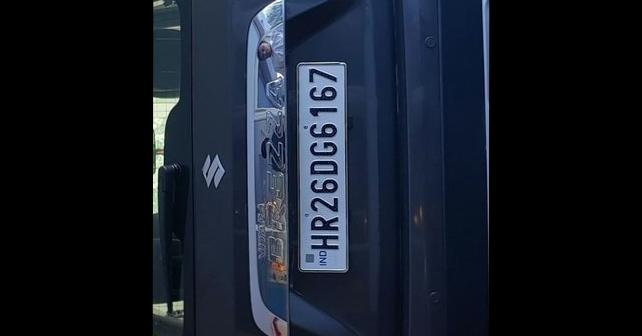plate: (293, 54, 350, 270)
